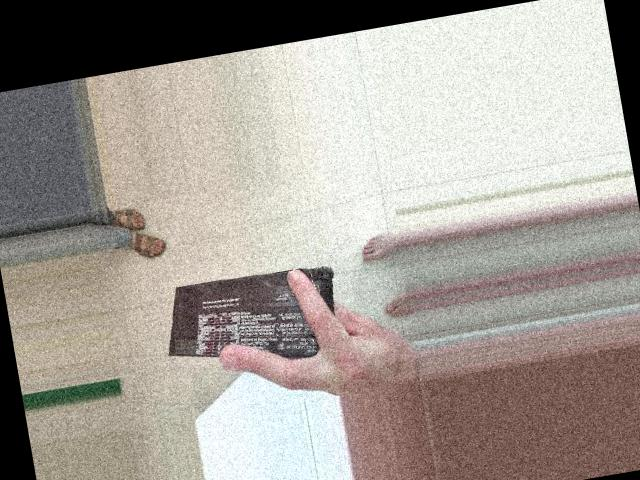chocolate: (171, 171, 308, 368)
